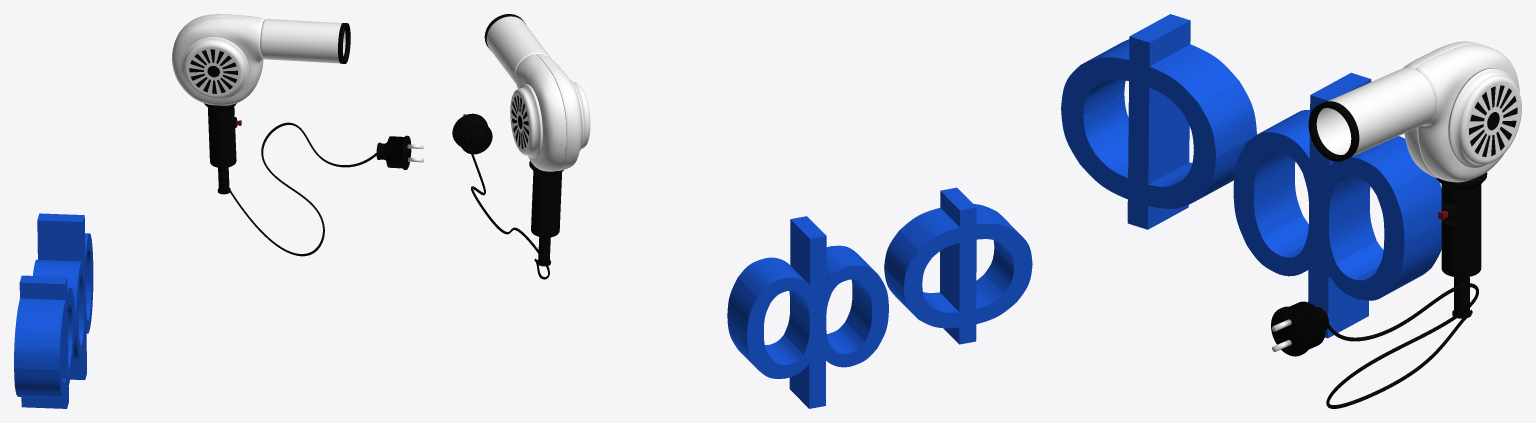
3 renders of one model, left to right at view 1: azimuth 30°, elevation 25°; view 2: azimuth 150°, elevation 25°; view 3: azimuth 270°, elevation 25°, orthographic. The views are drawn at different scales.
Parts seen in each view (by area): view 1: Cube.001, Mesh_0.026, Cylinder, NurbsPath.001; view 2: Mesh_0.026, Cube.001, Cylinder, NurbsPath.001; view 3: Mesh_0.026, Cube.001, Cylinder, NurbsPath.001.
Part boxes in pixels (bbox=[...]): Cube.001: bbox=[172, 14, 350, 194]; Mesh_0.026: bbox=[14, 213, 93, 408]; Cylinder: bbox=[376, 135, 423, 169]; NurbsPath.001: bbox=[230, 122, 387, 256]; Mesh_0.026: bbox=[727, 187, 1032, 408]; Cube.001: bbox=[484, 14, 590, 266]; Cylinder: bbox=[452, 113, 492, 154]; NurbsPath.001: bbox=[463, 133, 549, 279]; Mesh_0.026: bbox=[1061, 14, 1441, 338]; Cube.001: bbox=[1308, 41, 1521, 318]; Cylinder: bbox=[1271, 301, 1328, 356]; NurbsPath.001: bbox=[1323, 283, 1478, 408].
Size of the model in its own units: 54.11 by 31.37 by 30.86.
